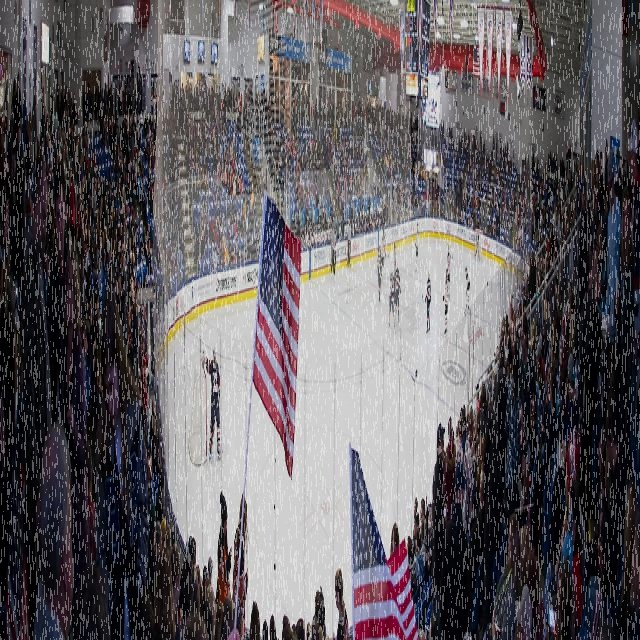pessoa: (94, 284, 150, 638), (57, 240, 92, 638), (22, 148, 54, 554), (30, 410, 84, 638), (185, 80, 239, 274), (134, 109, 186, 288), (586, 388, 623, 638), (268, 99, 330, 245), (609, 180, 636, 494), (439, 452, 474, 638), (45, 162, 69, 428), (550, 352, 579, 568), (478, 391, 501, 638), (600, 147, 622, 402), (550, 474, 584, 638), (3, 318, 26, 542), (587, 196, 607, 447), (626, 112, 640, 466), (188, 552, 245, 638), (482, 511, 520, 638), (372, 104, 410, 229), (532, 370, 558, 548), (612, 476, 640, 638), (428, 419, 448, 637), (96, 142, 122, 298), (339, 128, 374, 235), (518, 307, 538, 480), (503, 339, 522, 501), (281, 582, 328, 638), (453, 158, 488, 232), (232, 486, 248, 638), (90, 216, 102, 410), (239, 174, 263, 269), (152, 544, 176, 638), (215, 488, 233, 613), (494, 339, 509, 486), (202, 342, 220, 462), (622, 518, 640, 638), (576, 172, 590, 318), (513, 436, 531, 532), (557, 554, 577, 638), (522, 546, 540, 638), (462, 406, 474, 541), (443, 414, 457, 528), (178, 534, 194, 629), (0, 254, 19, 332), (85, 430, 95, 574), (77, 134, 92, 229), (6, 102, 16, 244), (331, 96, 374, 128), (554, 184, 574, 251), (332, 564, 350, 638), (46, 90, 54, 252), (542, 330, 558, 408), (170, 542, 183, 638), (138, 267, 154, 339), (530, 176, 546, 248), (518, 522, 532, 604), (120, 144, 130, 253), (139, 338, 149, 444), (514, 582, 532, 638), (8, 75, 16, 197), (152, 515, 176, 555), (0, 115, 7, 250), (15, 124, 24, 228), (486, 341, 499, 412), (142, 432, 152, 523), (466, 477, 478, 550), (508, 291, 518, 376), (127, 180, 135, 284), (567, 289, 577, 372), (20, 173, 36, 224), (520, 176, 530, 256), (120, 250, 128, 348), (410, 144, 420, 221), (538, 296, 548, 371), (424, 501, 433, 584), (18, 112, 25, 218), (246, 83, 260, 136), (131, 284, 138, 386), (30, 85, 38, 173), (590, 155, 596, 272), (151, 412, 161, 482), (78, 252, 90, 310), (560, 278, 572, 334), (25, 110, 35, 176), (68, 164, 76, 246), (548, 274, 558, 338), (622, 112, 631, 182), (333, 126, 340, 213), (58, 140, 78, 170), (417, 612, 440, 638), (442, 264, 450, 338), (155, 469, 165, 528), (28, 107, 36, 179), (454, 413, 464, 469), (388, 264, 396, 333), (58, 106, 72, 144), (496, 168, 510, 206), (393, 258, 401, 324), (424, 268, 432, 334), (470, 381, 480, 432), (249, 596, 261, 638), (32, 85, 38, 168), (528, 252, 536, 314), (568, 422, 582, 456), (420, 512, 428, 571), (14, 70, 22, 128), (534, 338, 544, 384), (498, 314, 506, 369), (536, 245, 546, 288), (85, 78, 91, 149), (129, 123, 135, 194), (330, 224, 338, 277), (502, 312, 510, 365), (150, 80, 164, 110), (594, 148, 600, 215), (92, 84, 98, 150), (464, 262, 471, 317), (120, 253, 126, 317), (461, 403, 467, 467), (114, 78, 120, 141), (174, 76, 180, 138), (471, 432, 478, 485), (419, 496, 426, 549), (40, 91, 45, 165), (487, 188, 495, 234), (150, 392, 156, 453), (576, 160, 582, 219), (554, 308, 560, 367), (136, 57, 142, 116), (446, 244, 452, 302), (62, 81, 68, 138), (413, 219, 419, 275), (19, 354, 24, 419), (540, 152, 552, 179), (545, 176, 551, 230), (390, 522, 400, 554), (66, 167, 72, 220), (346, 216, 352, 269), (377, 242, 382, 304), (191, 532, 199, 570), (502, 204, 509, 247), (414, 523, 422, 560), (550, 220, 556, 268), (54, 98, 58, 168), (479, 379, 486, 419), (516, 280, 523, 320), (92, 176, 98, 222), (41, 84, 46, 138), (109, 82, 114, 136), (242, 94, 247, 146), (88, 80, 94, 123), (56, 80, 60, 144), (380, 232, 385, 283), (496, 202, 500, 264), (606, 178, 612, 218), (546, 286, 552, 325), (268, 610, 277, 636), (604, 136, 608, 194), (528, 254, 532, 312), (178, 80, 182, 138), (64, 172, 68, 230), (413, 494, 418, 540), (474, 226, 480, 264), (598, 148, 604, 186), (538, 326, 544, 364), (72, 88, 76, 144), (263, 90, 267, 146), (330, 219, 334, 274), (90, 147, 97, 178), (570, 254, 576, 290), (259, 88, 263, 141), (461, 429, 467, 464), (526, 270, 530, 322), (69, 91, 73, 142), (314, 92, 318, 142), (98, 80, 102, 130), (310, 92, 314, 142), (131, 84, 135, 134), (330, 126, 334, 176), (60, 89, 64, 138), (66, 88, 70, 136), (522, 283, 526, 331), (102, 82, 108, 114), (336, 208, 340, 256), (262, 85, 266, 133), (486, 150, 491, 188), (472, 429, 479, 456), (181, 86, 185, 133), (567, 140, 571, 186), (561, 154, 565, 200), (82, 80, 86, 125), (406, 532, 412, 562), (616, 148, 621, 182), (122, 80, 126, 120), (171, 80, 176, 112), (454, 416, 460, 442), (420, 160, 427, 182), (129, 80, 133, 118), (261, 86, 264, 136), (472, 125, 476, 162), (502, 144, 506, 181), (54, 128, 58, 165), (413, 512, 418, 541), (126, 296, 132, 320), (544, 253, 550, 277), (382, 227, 386, 261), (536, 157, 540, 190), (453, 136, 458, 162), (573, 157, 576, 200), (393, 242, 396, 282), (464, 132, 468, 162), (550, 202, 556, 222), (580, 147, 584, 176), (106, 78, 110, 105), (556, 288, 560, 315), (262, 620, 268, 638), (526, 152, 530, 178), (492, 132, 495, 166), (479, 126, 482, 160), (506, 140, 509, 174), (424, 184, 427, 218), (516, 202, 520, 227), (409, 109, 412, 142), (554, 148, 558, 172), (552, 150, 555, 182), (463, 124, 466, 156), (240, 86, 242, 134), (450, 123, 453, 155), (511, 186, 515, 210), (516, 229, 521, 248), (495, 136, 498, 166), (414, 114, 417, 144), (413, 114, 416, 144), (458, 130, 461, 160), (546, 233, 550, 254), (448, 122, 451, 150), (482, 136, 485, 160), (421, 196, 424, 220), (416, 110, 418, 144), (536, 152, 538, 186), (500, 132, 502, 164), (480, 138, 483, 158), (439, 119, 442, 138), (442, 118, 444, 146), (467, 128, 470, 146), (446, 125, 448, 152), (504, 141, 506, 168), (508, 155, 512, 168), (560, 156, 562, 180), (524, 150, 526, 174), (522, 152, 524, 176), (574, 204, 576, 228), (512, 146, 514, 168), (476, 136, 478, 157), (499, 322, 502, 336), (491, 180, 494, 193), (470, 404, 473, 414), (470, 147, 472, 160), (532, 146, 534, 158)
